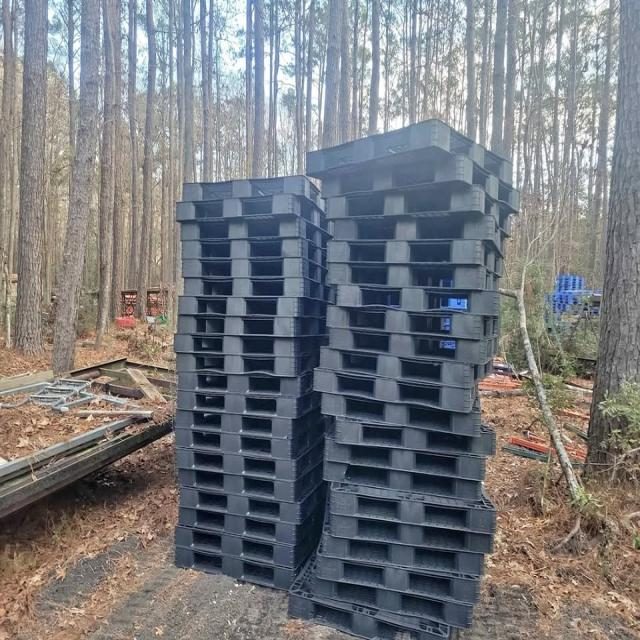non-igps: (304, 114, 516, 195), (318, 150, 524, 220), (323, 177, 515, 244), (309, 566, 477, 633), (173, 491, 340, 557), (313, 545, 483, 609), (172, 512, 334, 577), (326, 479, 499, 537), (285, 582, 453, 640), (330, 210, 508, 264), (310, 362, 481, 418), (170, 540, 332, 598), (318, 387, 484, 442), (171, 411, 337, 466), (323, 232, 505, 282), (316, 342, 496, 392), (171, 431, 332, 486), (175, 476, 336, 531), (322, 432, 490, 484), (328, 507, 497, 557), (325, 322, 502, 369), (333, 275, 504, 323), (174, 190, 338, 240), (321, 454, 484, 504), (332, 411, 498, 460), (173, 457, 329, 509), (320, 530, 487, 578), (178, 207, 337, 256), (322, 302, 503, 345), (172, 396, 326, 446), (180, 171, 330, 220), (325, 257, 501, 297), (178, 252, 341, 290), (178, 234, 330, 274), (172, 364, 316, 404), (174, 386, 324, 423), (181, 274, 339, 308), (171, 331, 333, 363), (175, 311, 332, 344), (174, 348, 322, 383), (176, 292, 339, 322)
